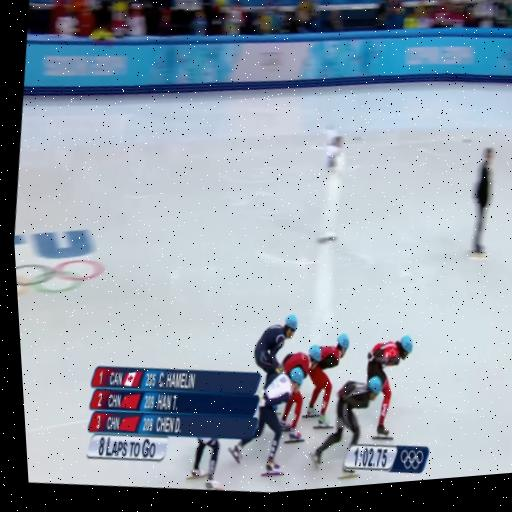Skater: (230, 368, 304, 476), (310, 377, 381, 467), (368, 336, 412, 440), (306, 334, 349, 428), (254, 315, 297, 385), (188, 438, 222, 490), (281, 392, 303, 442)
